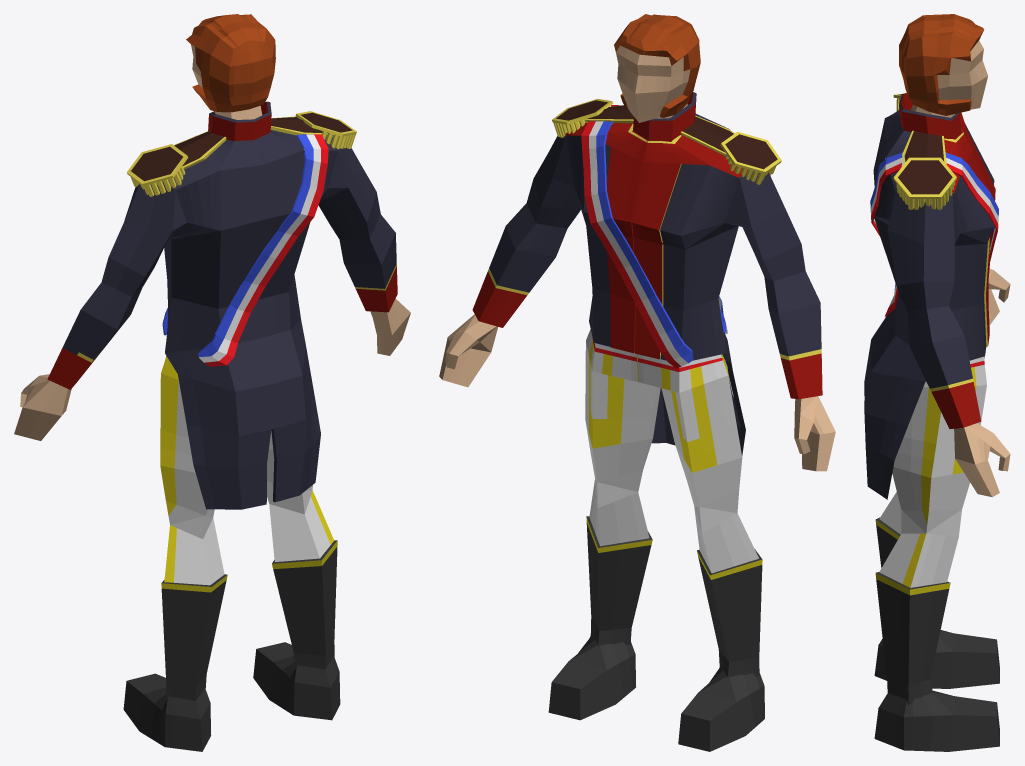
The model's file is Bernardo_Ohiggins.fbx.
The picture shows the model from 3 angles, left to right: view 1: azimuth 30°, elevation 25°; view 2: azimuth 150°, elevation 25°; view 3: azimuth 270°, elevation 25°; orthographic projection.
Parts seen in each view (by area): view 1: Ohiggins; view 2: Ohiggins; view 3: Ohiggins.
Part boxes in pixels (bbox=[...]): Ohiggins: bbox=[14, 14, 410, 751]; Ohiggins: bbox=[439, 14, 835, 751]; Ohiggins: bbox=[864, 14, 1010, 751].
Bounding box in the file's own units: 108 × 183 × 35.19.
